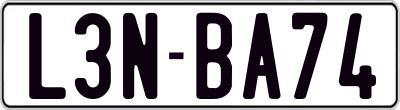3: (75, 13, 112, 101)
4: (337, 11, 380, 97)
7: (290, 11, 325, 98)
A: (240, 12, 281, 99)
B: (194, 13, 231, 99)
L: (28, 12, 71, 104)
N: (122, 12, 159, 104)
